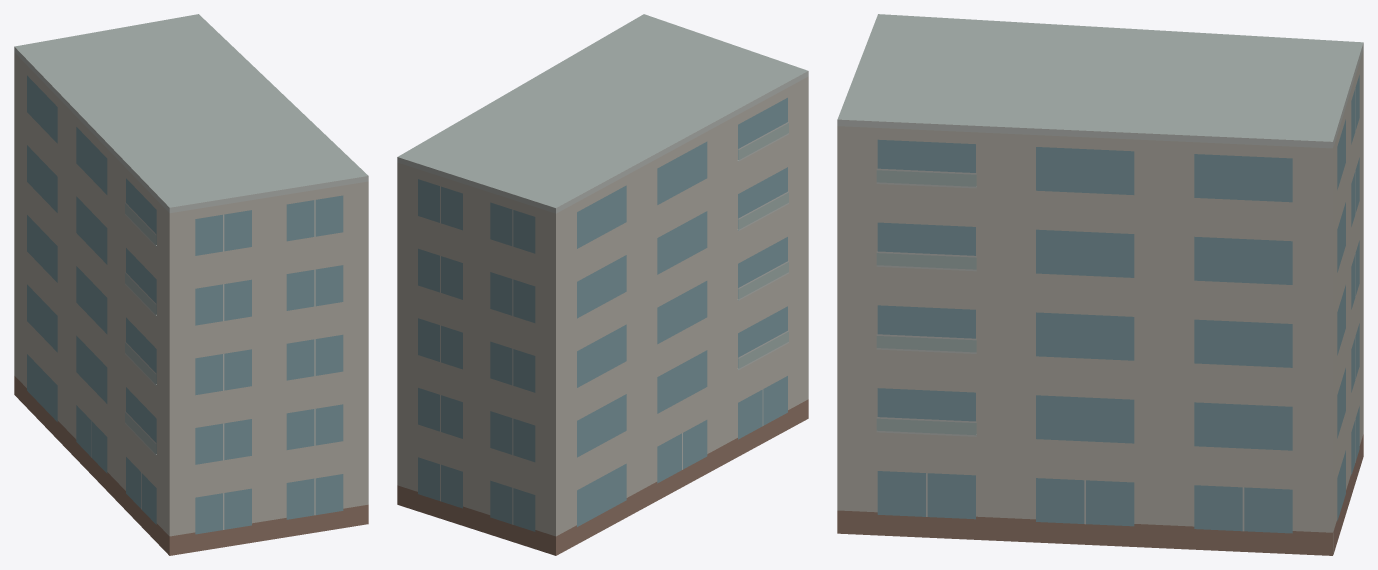
File: survey-upis-32987512.glb
3 views of the same model, side by side, from view 1: azimuth 30°, elevation 25°; view 2: azimuth 150°, elevation 25°; view 3: azimuth 270°, elevation 25° (orthographic). The views are drawn at different scales.
Visible parts, largest first — view 1: survey-upis-32987512.tmp; view 2: survey-upis-32987512.tmp; view 3: survey-upis-32987512.tmp.
Part boxes in pixels (x1=…): survey-upis-32987512.tmp: x1=14, y1=14, x2=368, y2=555; survey-upis-32987512.tmp: x1=397, y1=14, x2=808, y2=555; survey-upis-32987512.tmp: x1=837, y1=14, x2=1363, y2=555.
Size of the model in its own units: 10.21 by 15.4 by 17.75.
